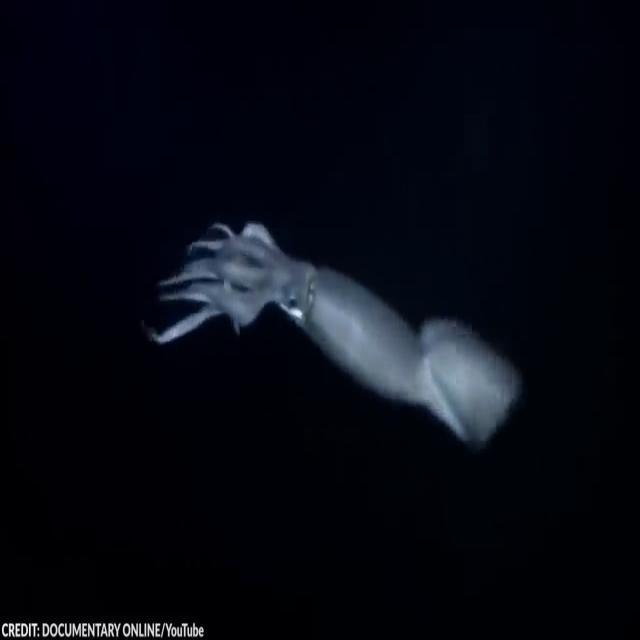squid: (152, 220, 522, 446)
